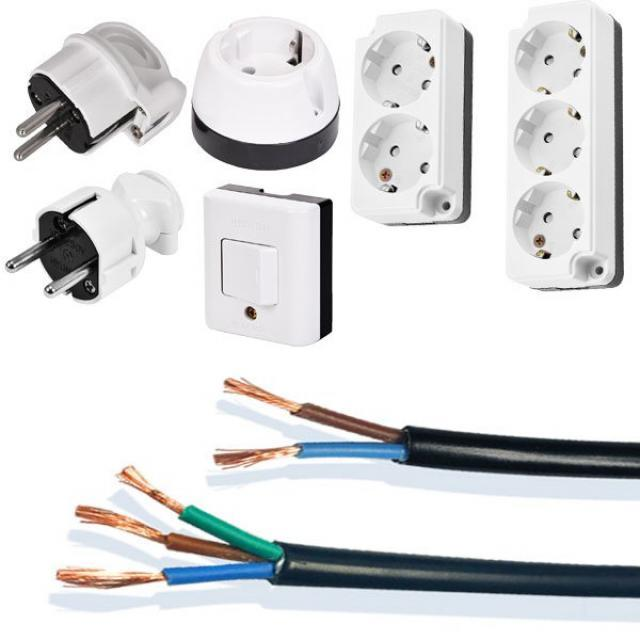typeb: (501, 0, 627, 312), (352, 6, 479, 238)
